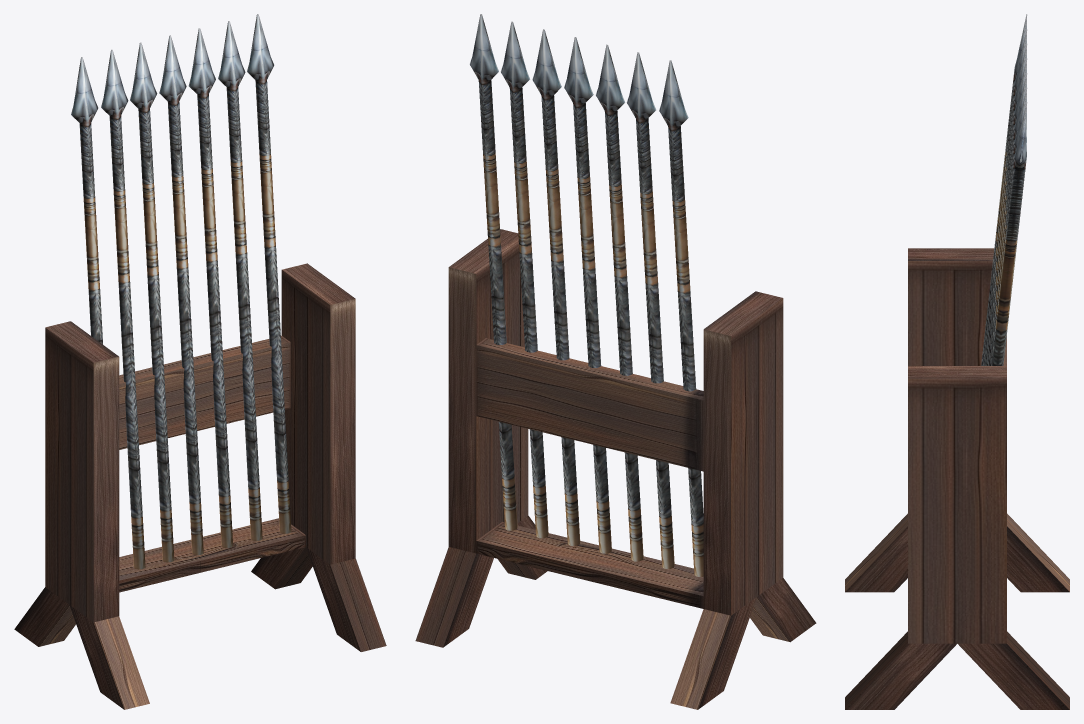
Rendered from spears_and_holder.glb.
The picture shows the model from 3 angles, left to right: view 1: azimuth 30°, elevation 25°; view 2: azimuth 150°, elevation 25°; view 3: azimuth 270°, elevation 25°; orthographic projection. The views are drawn at different scales.
Parts seen in each view (by area): view 1: Spears_and_holder; view 2: Spears_and_holder; view 3: Spears_and_holder.
Boxes of the visible parts, bbox=[...] form: Spears_and_holder: bbox=[14, 14, 386, 709]; Spears_and_holder: bbox=[415, 14, 816, 709]; Spears_and_holder: bbox=[845, 14, 1069, 709].
Bounding box in the file's own units: 2.11 × 4.44 × 1.54.
Materials: 2 (2 with a texture image).
